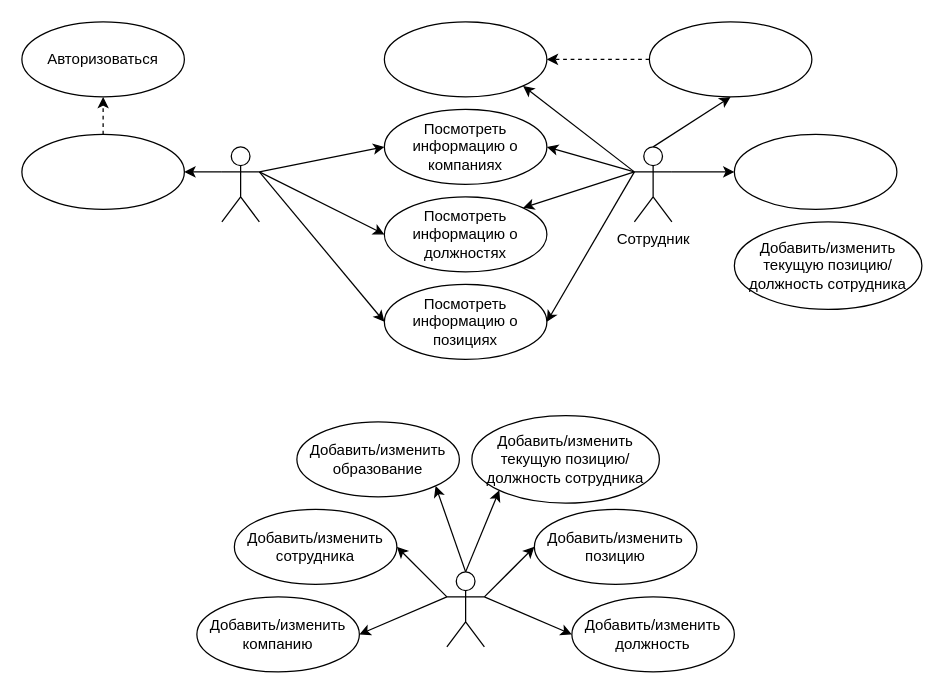
Image size: 944x695. Some labels were removed from this diagram. Each missing label, with the centre of its shape:
"Администратор" goes at point 465,609.
"Выставить оценки непосредственным подчиненным" goes at point 730,59.
"Гость" goes at point 240,184.
"Зарегистрироваться" goes at point 102,171.
"Посмотреть информацию о сотрудниках" goes at point 815,171.
"Посмотреть информацию об оценках" goes at point 465,59.
